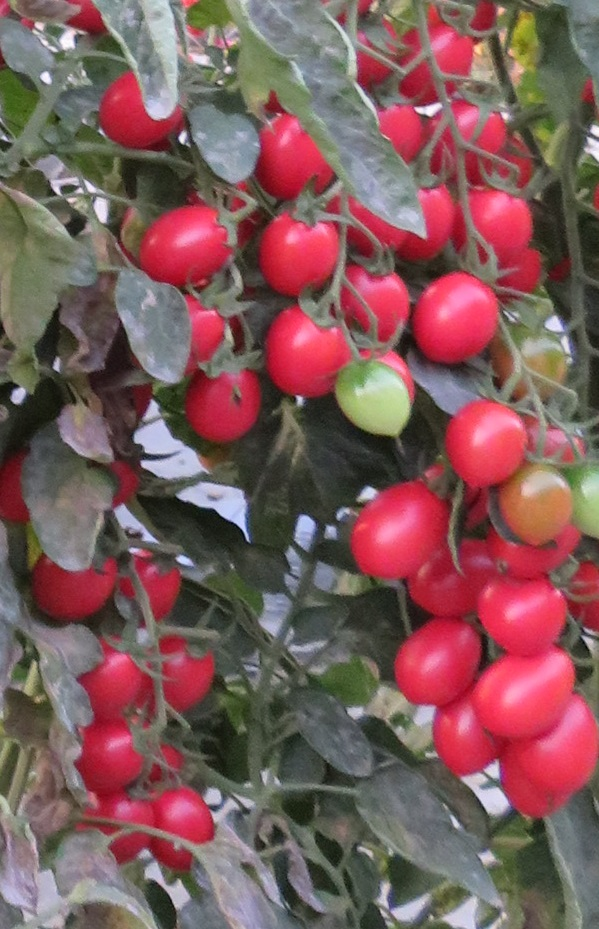green: (333, 353, 424, 442)
orange: (496, 322, 574, 403), (499, 467, 576, 547)
red: (343, 473, 459, 580), (472, 635, 587, 739), (504, 689, 599, 796), (402, 526, 502, 617), (416, 270, 511, 363), (476, 574, 577, 661), (137, 210, 248, 287), (392, 621, 487, 710), (261, 198, 342, 301), (446, 403, 535, 493), (256, 102, 329, 205), (266, 308, 348, 399), (457, 186, 539, 273), (77, 722, 167, 800), (336, 259, 417, 341), (25, 556, 121, 624), (422, 696, 496, 775), (397, 28, 477, 98), (425, 103, 508, 170), (187, 374, 262, 447), (84, 792, 159, 861), (91, 641, 151, 723), (99, 72, 154, 155), (412, 188, 465, 265), (158, 784, 206, 869), (162, 637, 218, 709), (135, 550, 182, 624), (368, 101, 422, 163)
